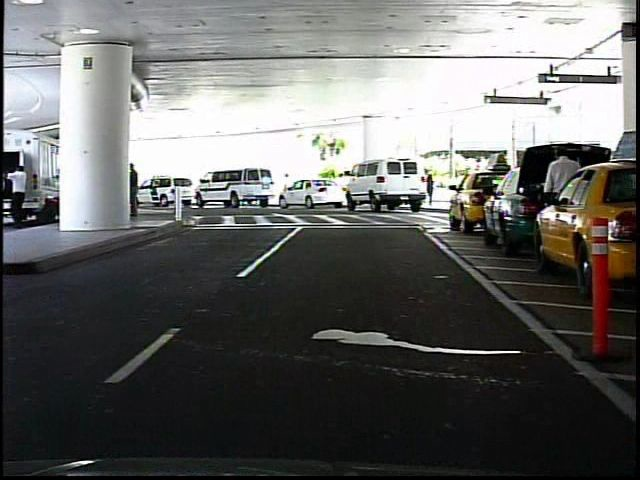person: (540, 143, 582, 263), (278, 170, 294, 204), (423, 170, 437, 208)
